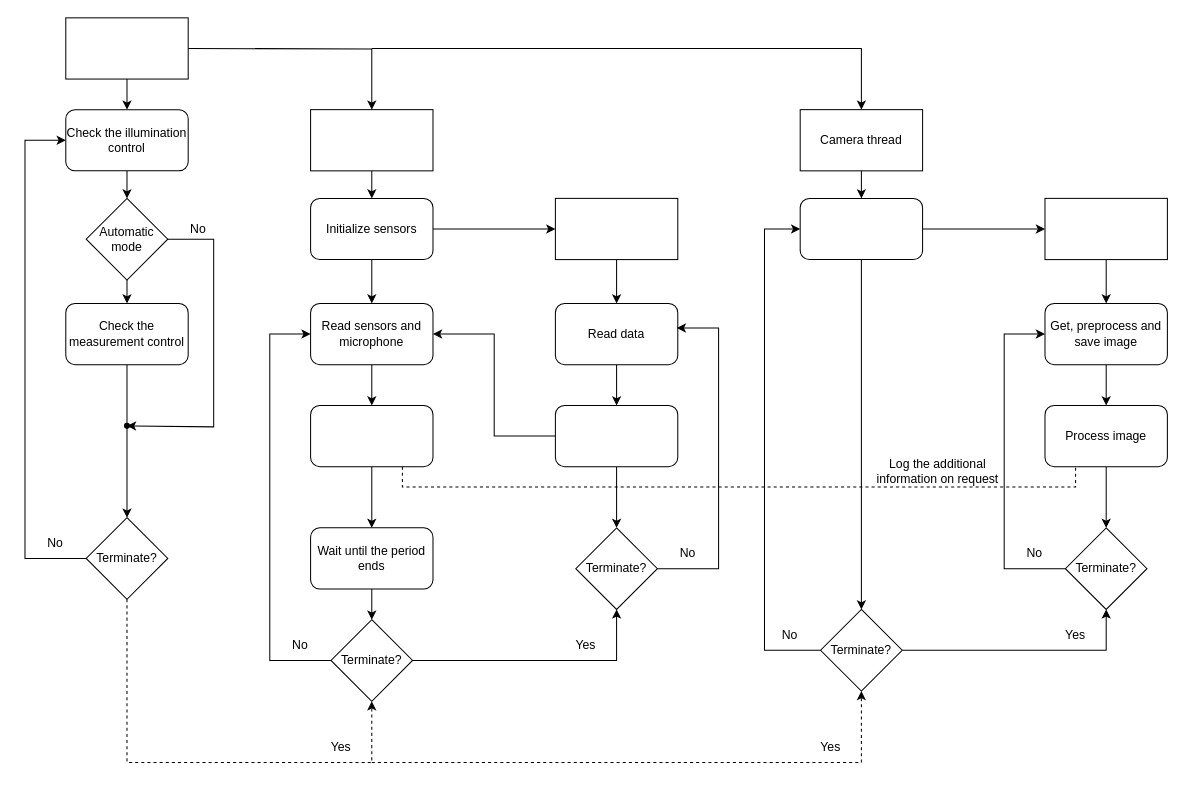
The diagram is 1185 pixels wide and 788 high, and some of its shapes have lost their labels. Each missing label, with the box of its shape:
Image processor thread (4x): (1044, 197, 1167, 260)
Initialize camera: (799, 197, 923, 260)
Main thread: (65, 17, 188, 79)
Save data to log: (310, 404, 433, 467)
Send data on request: (554, 404, 678, 467)
Sensor thread: (310, 109, 433, 171)
SGP30 thread: (554, 197, 678, 260)
